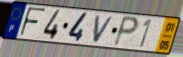1: (139, 19, 153, 50)
4: (66, 11, 90, 44), (41, 9, 62, 41)
F: (18, 6, 48, 39)
P: (111, 15, 140, 49)
V: (92, 15, 116, 45)
